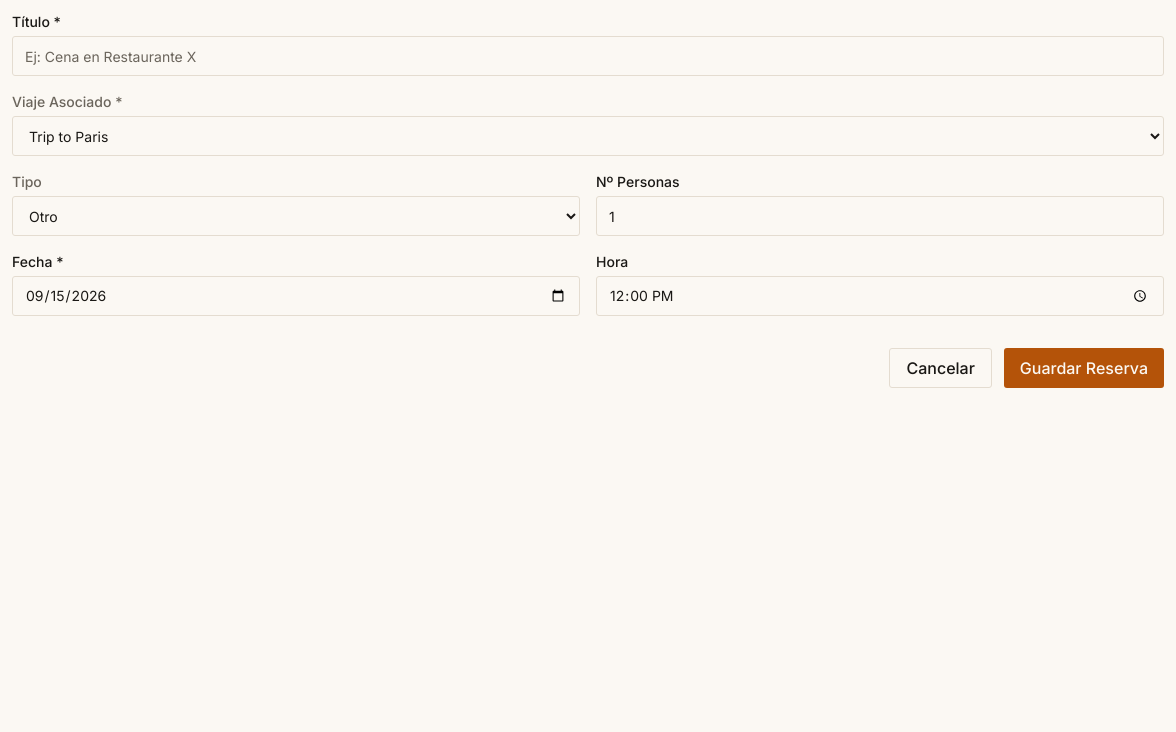
Test: NewBookingForm › muestra los campos de vuelo solo cuando el tipo es Vuelo
Expected: the field labelled "Nº de vuelo" is not shown
Select "Vuelo" in the dropdown labelled "Tipo" at (296, 216), box x1=12 y1=196 x2=580 y2=236
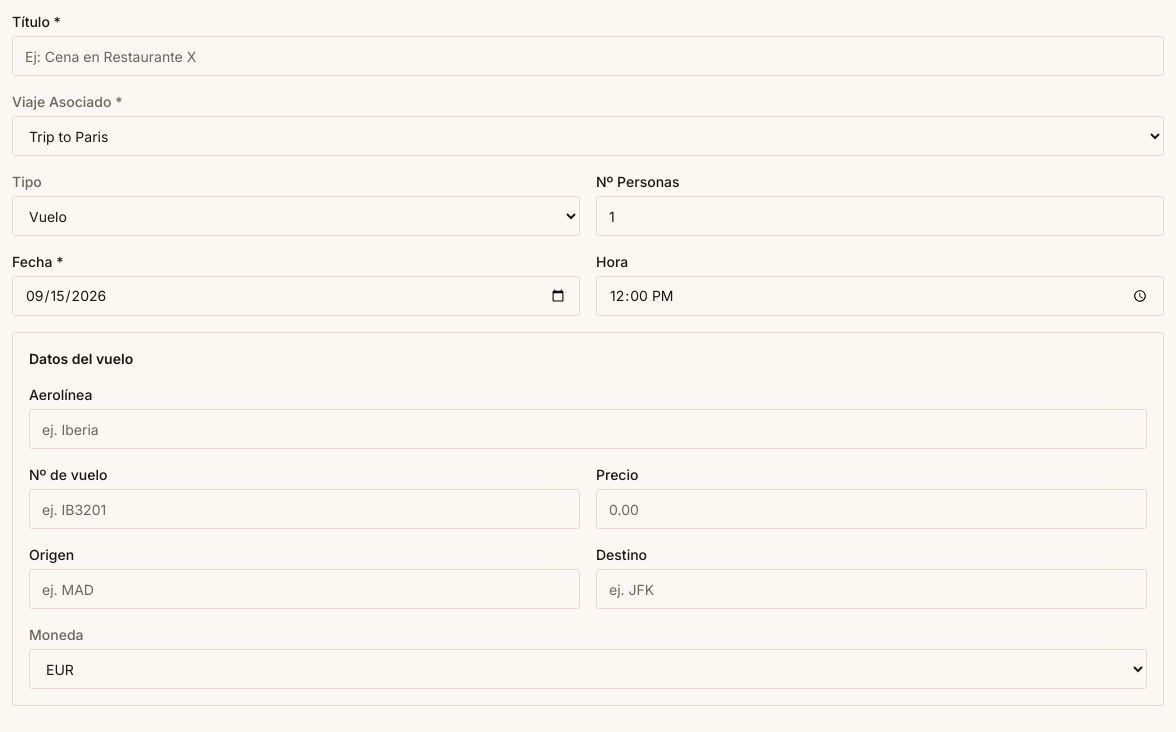
Expected: the field labelled "Aerolínea" is shown, x1=29 y1=409 x2=1147 y2=449
Expected: the field labelled "Nº de vuelo" is shown, x1=29 y1=489 x2=580 y2=529
Expected: the field labelled "Origen" is shown, x1=29 y1=569 x2=580 y2=609
